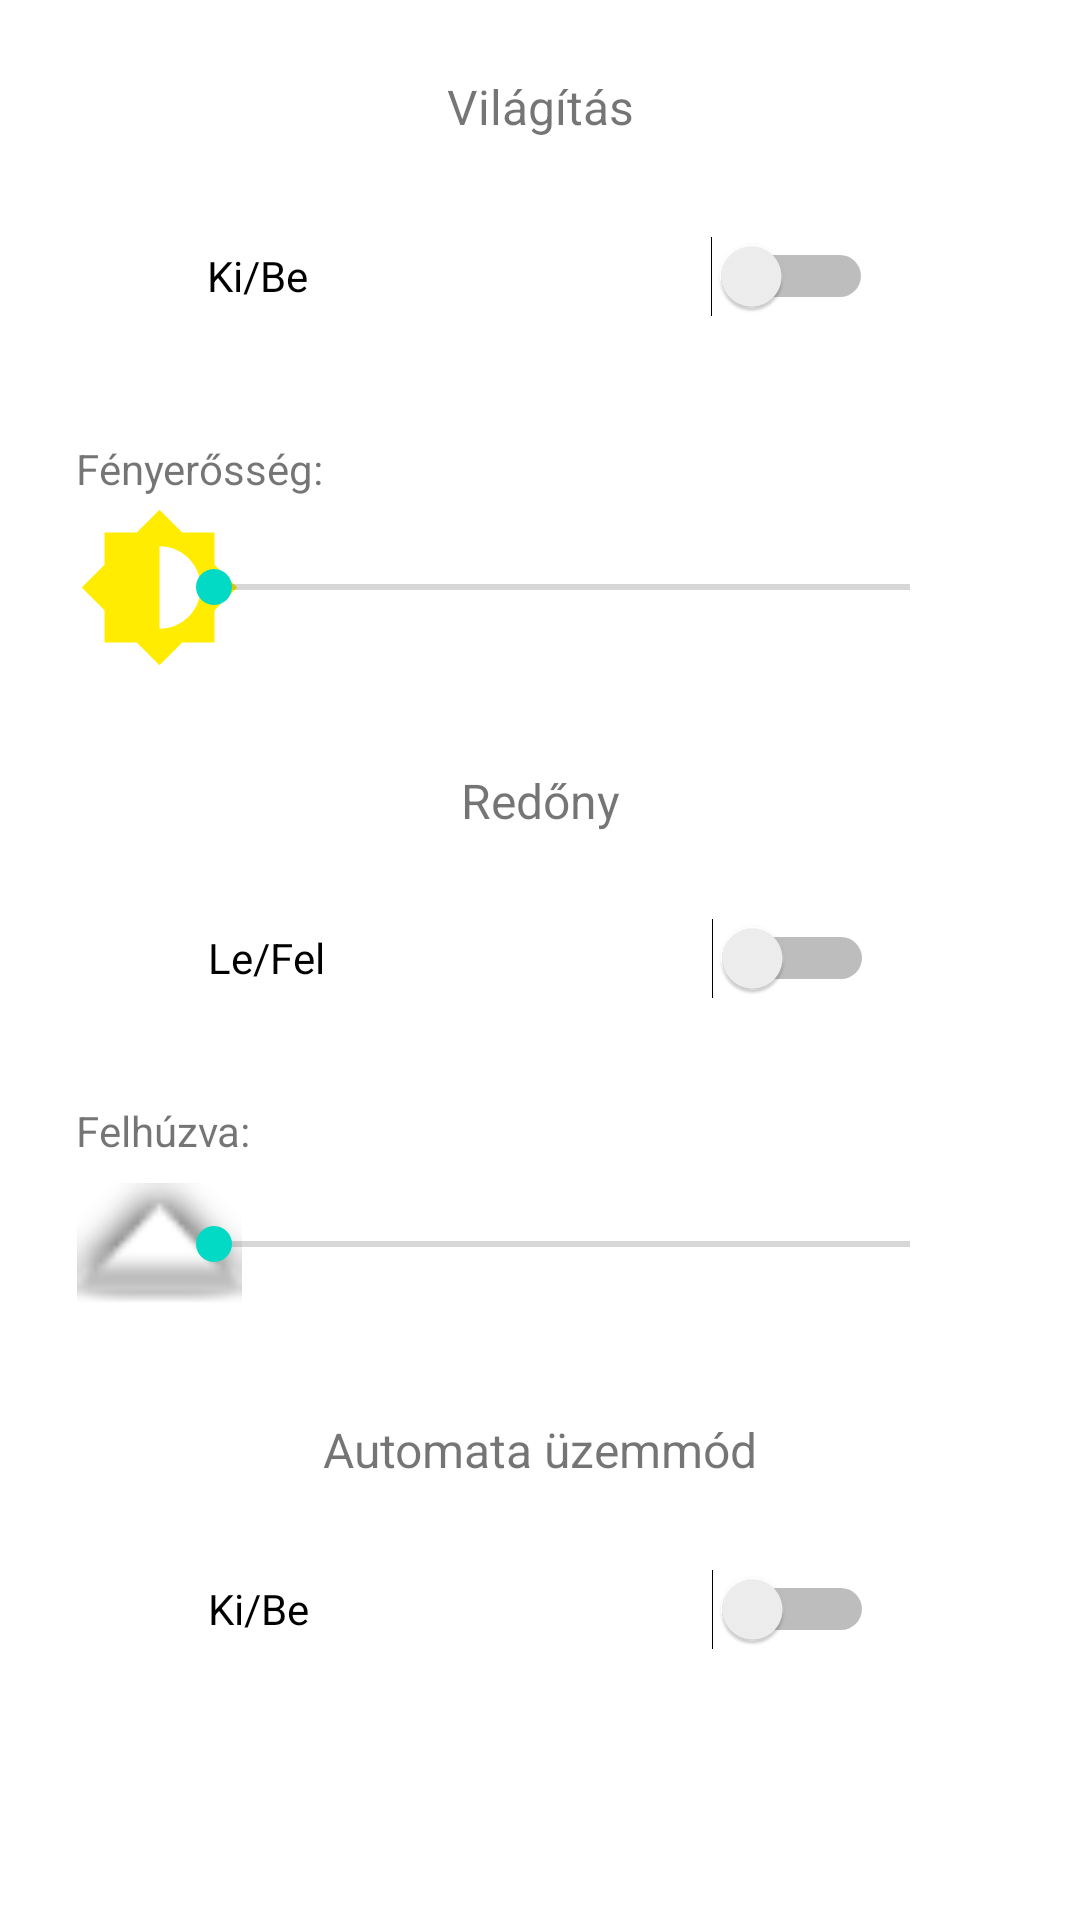

Where icons sit on this 1080 x 1920 app screen, as BBox(x1, y1, x2, y2):
arrow up float: BBox(77, 1187, 242, 1299)
